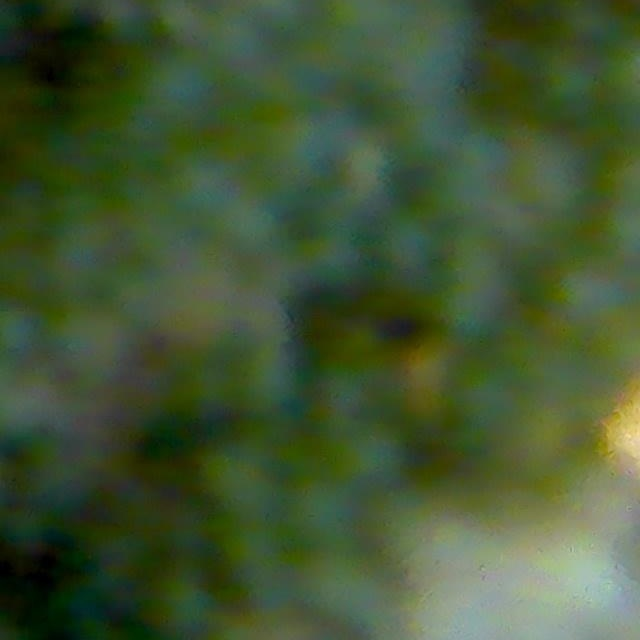SeaGrape: (306, 548, 397, 634), (510, 131, 594, 221), (137, 48, 222, 132), (551, 258, 632, 331), (288, 477, 360, 549), (338, 419, 409, 489), (538, 50, 604, 120), (377, 214, 442, 282), (151, 573, 219, 638), (600, 32, 639, 122), (600, 198, 640, 266), (0, 303, 44, 358)
